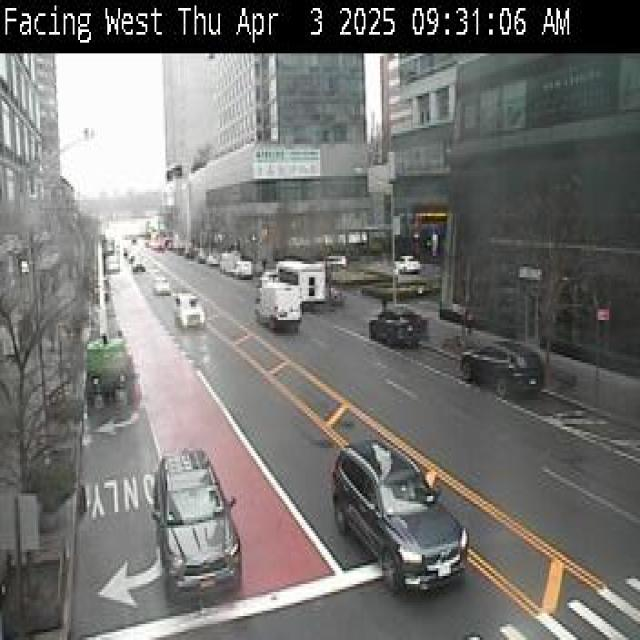open parking: (330, 283, 608, 433)
